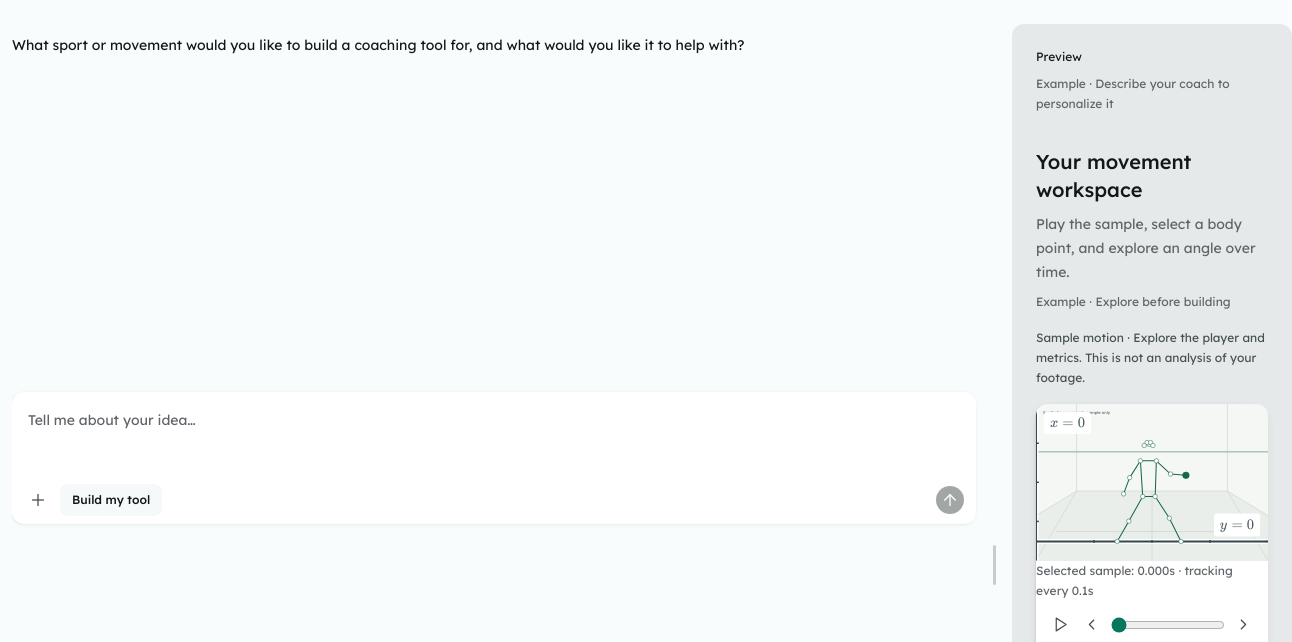
Test case: keeps a typed follow-up when the active request fails
Type "Build a lunge coach" into the text box named "Answer the builder".
click(494, 440); type("Build a lunge coach")  # box [24,408,964,472]
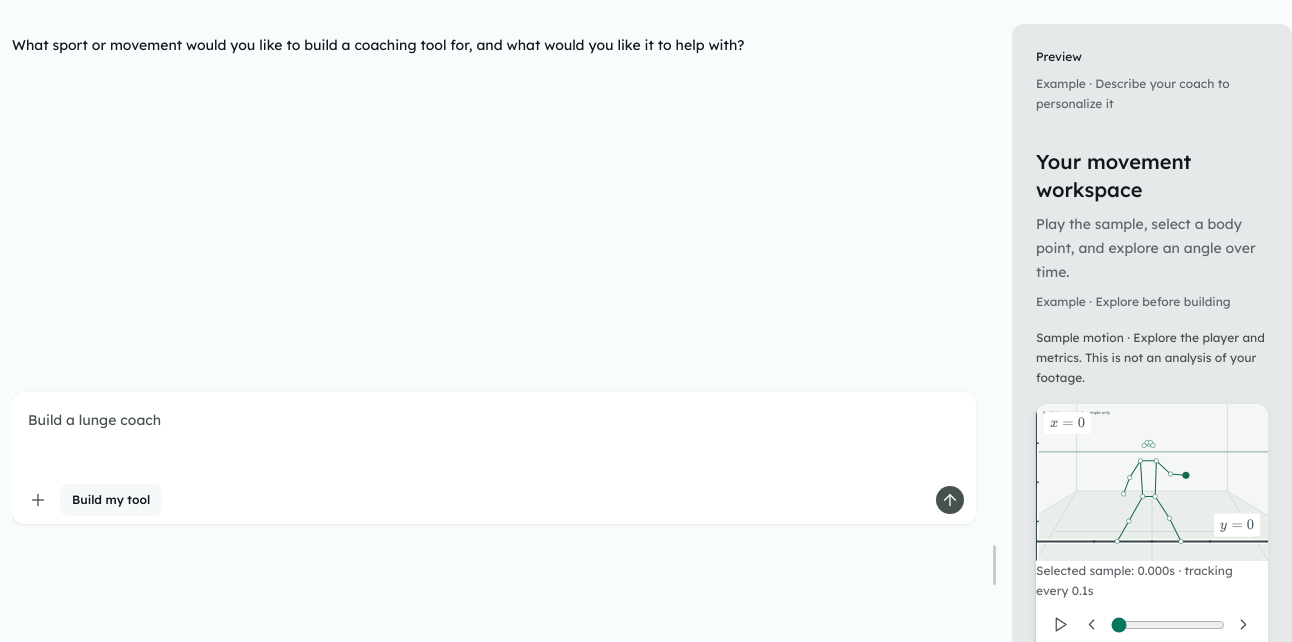
Click the button named "Send answer".
click(950, 500)  # box [936,486,964,514]
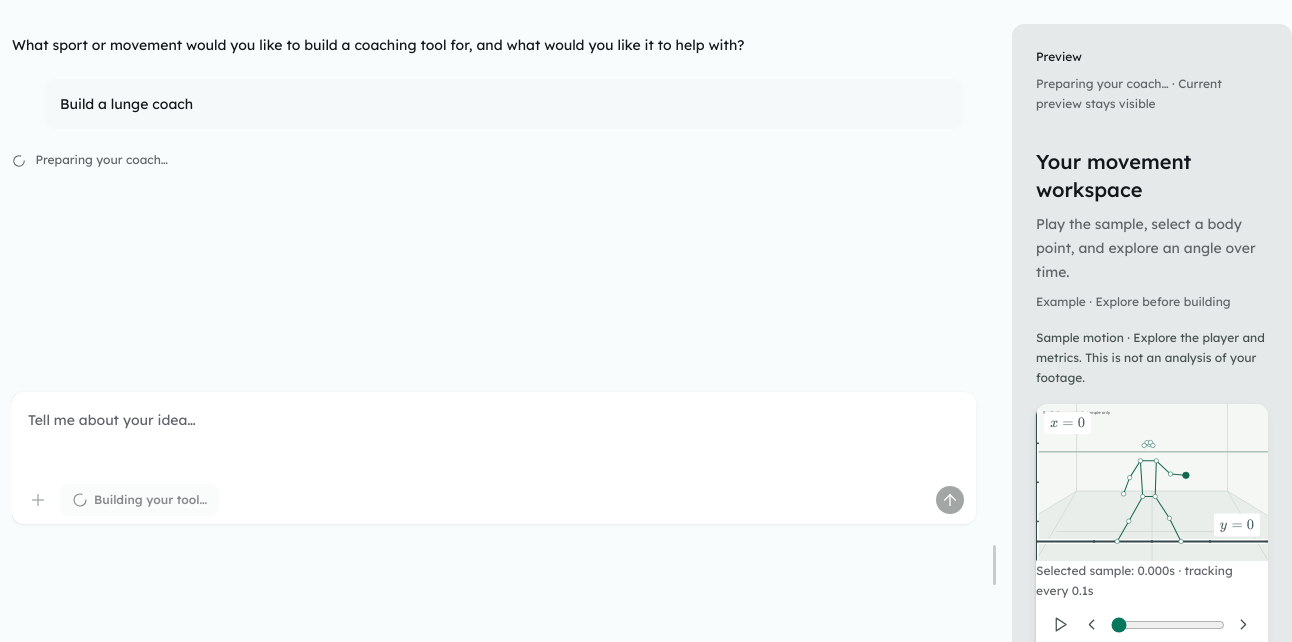
Type "Also use a side camera" into the text box named "Answer the builder".
click(494, 440); type("Also use a side camera")  # box [24,408,964,472]
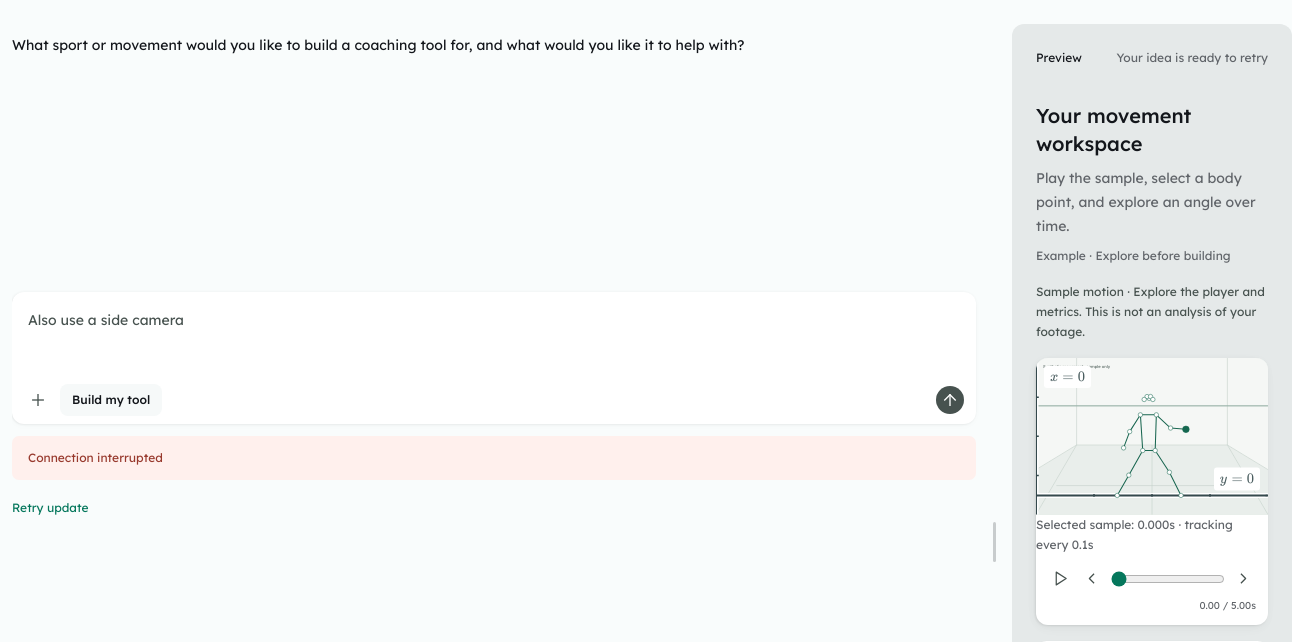
Expected: the button "Retry update" is shown, [12,492,976,524]
